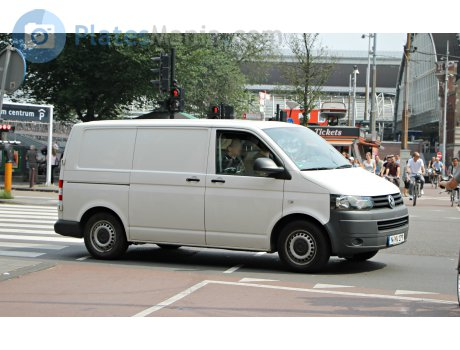License Plates: (384, 231, 412, 242)
